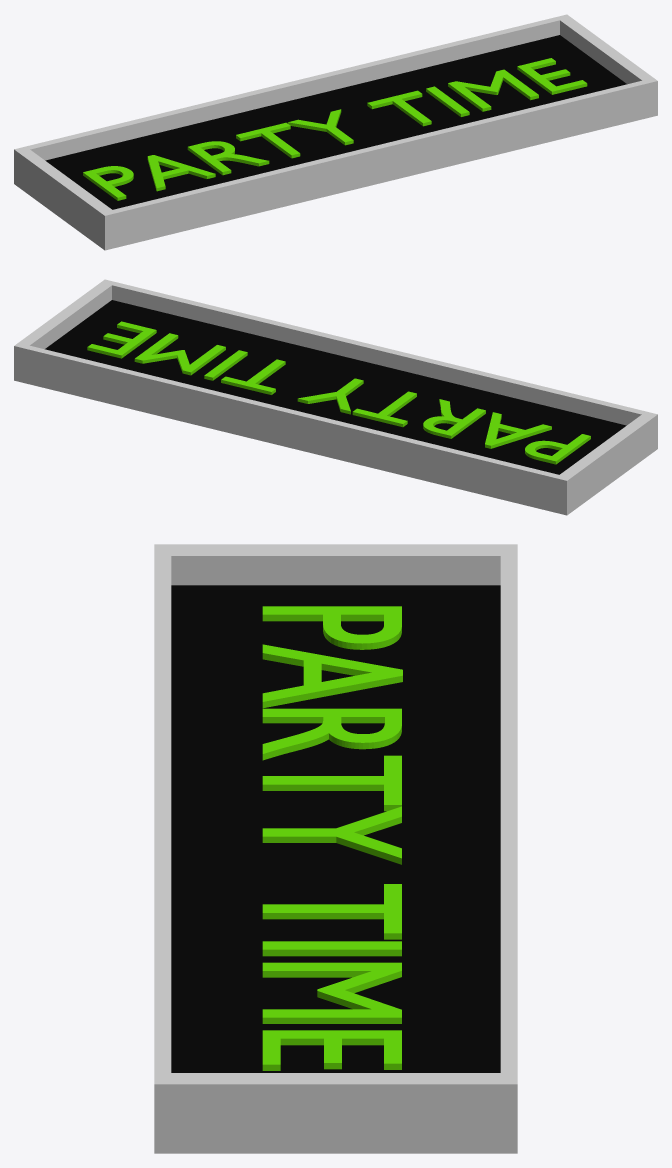
The model's file is Partytime text.fbx.
3 renders of one model, top to bottom at view 1: azimuth 30°, elevation 25°; view 2: azimuth 150°, elevation 25°; view 3: azimuth 270°, elevation 25°, orthographic. The views are drawn at different scales.
Visible parts, largest first — view 1: Cube; view 2: Cube; view 3: Cube.
Boxes of the visible parts, <box> form: Cube: <box>14,14,657,250</box>; Cube: <box>14,279,657,515</box>; Cube: <box>154,544,517,1153</box>.
Bounding box in the file's own units: 840 × 239 × 50.29.
